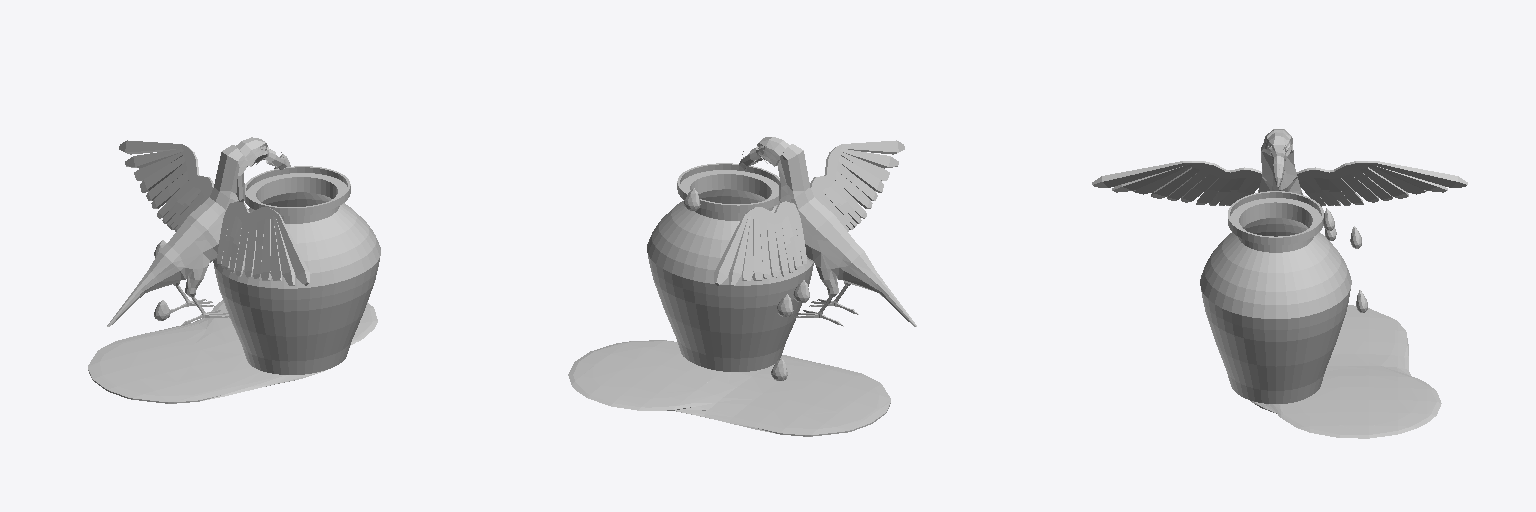
The model's file is bheegahuakaua3.obj.
The picture shows the model from 3 angles: view 1: azimuth 30°, elevation 25°; view 2: azimuth 150°, elevation 25°; view 3: azimuth 270°, elevation 25°; orthographic projection.
Parts seen in each view (by area): view 1: Circle, Cylinder, Mball; view 2: Circle, Mball, Cylinder; view 3: Circle, Mball, Cylinder.
Boxes of the visible parts, x1,y1,x2,y2 form: Circle: [213, 166, 380, 374]; Cylinder: [107, 137, 309, 326]; Mball: [88, 300, 377, 403]; Circle: [647, 163, 813, 371]; Mball: [568, 340, 890, 436]; Cylinder: [714, 137, 916, 326]; Circle: [1200, 191, 1351, 403]; Mball: [1251, 305, 1441, 438]; Cylinder: [1092, 129, 1467, 206].
Bounding box in the file's own units: 1.18 × 0.8922 × 1.28.